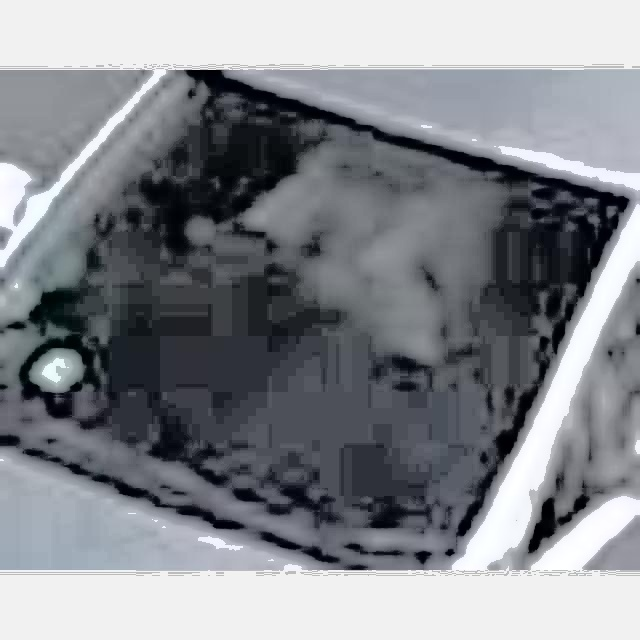pakai: (260, 143, 473, 357)
